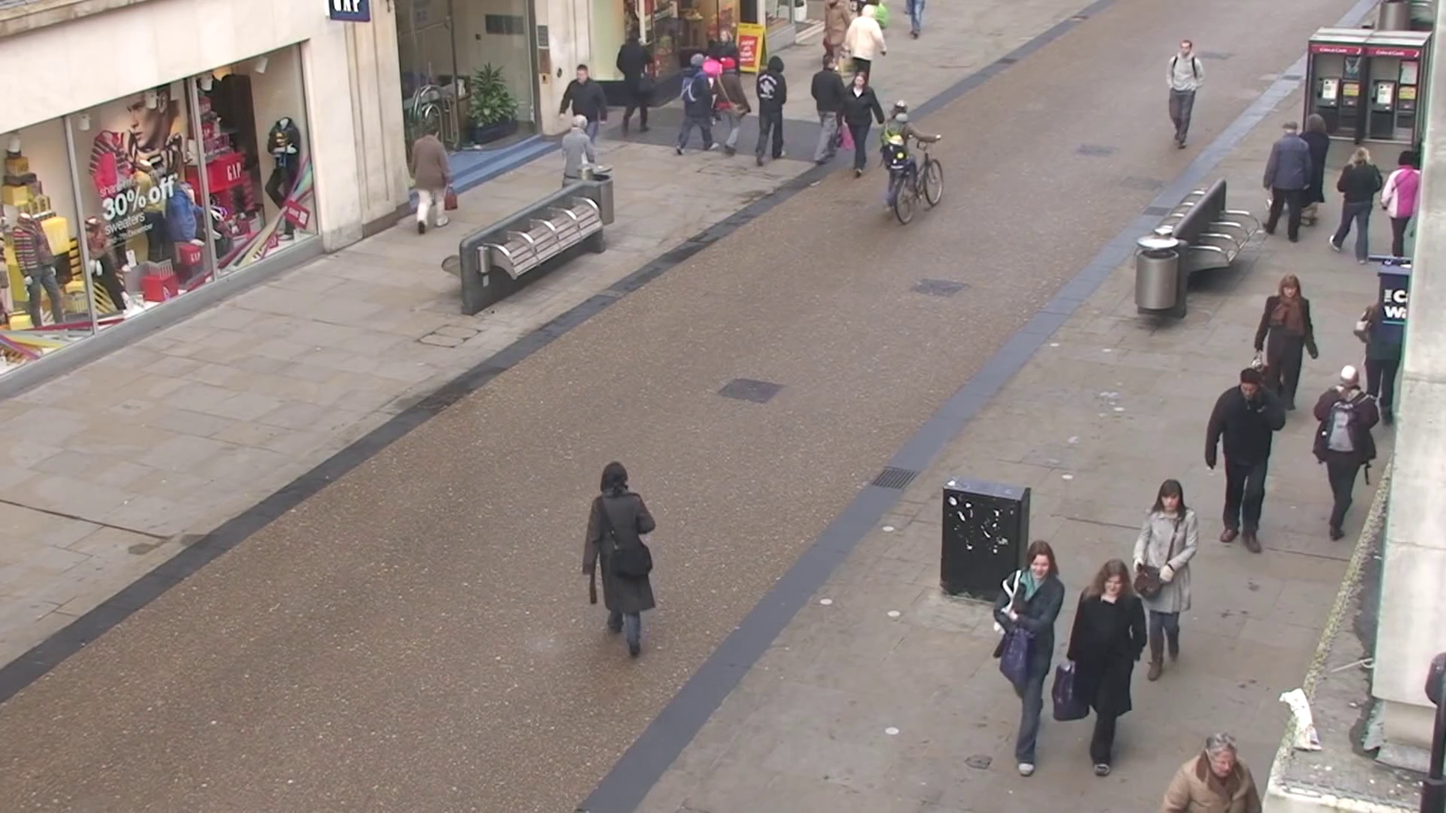person: (1062, 559, 1149, 778), (994, 539, 1067, 777), (1203, 361, 1291, 554), (583, 461, 658, 661), (1130, 478, 1199, 681), (1310, 365, 1380, 541), (1253, 272, 1316, 412), (1162, 732, 1262, 812), (1330, 143, 1385, 260), (559, 62, 611, 181), (1261, 124, 1313, 242), (405, 127, 459, 235), (839, 58, 886, 178), (807, 55, 851, 168), (1382, 150, 1423, 259), (672, 53, 715, 155), (708, 56, 750, 156), (1167, 36, 1203, 149), (753, 54, 789, 165), (616, 31, 652, 136)
